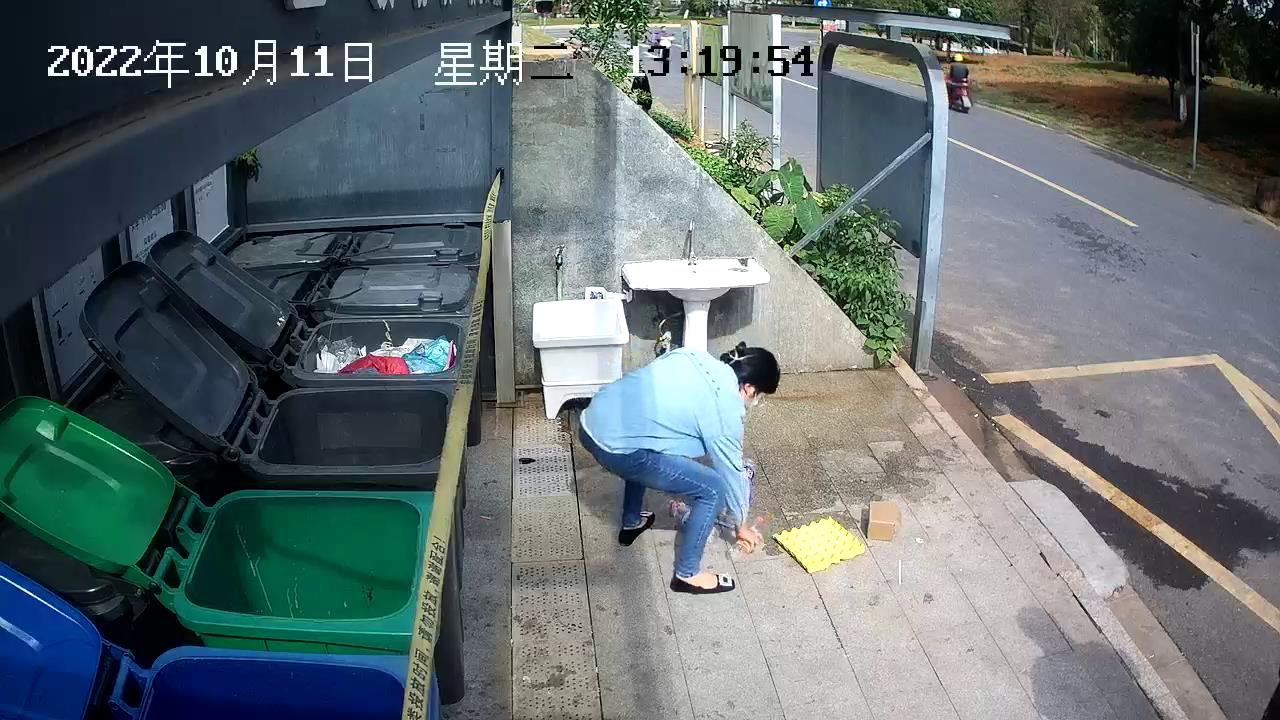suliaozhipin: (665, 494, 720, 545), (723, 512, 765, 567)
worker: (571, 337, 788, 602)
zhizhipin: (769, 512, 869, 578), (864, 495, 907, 546)
